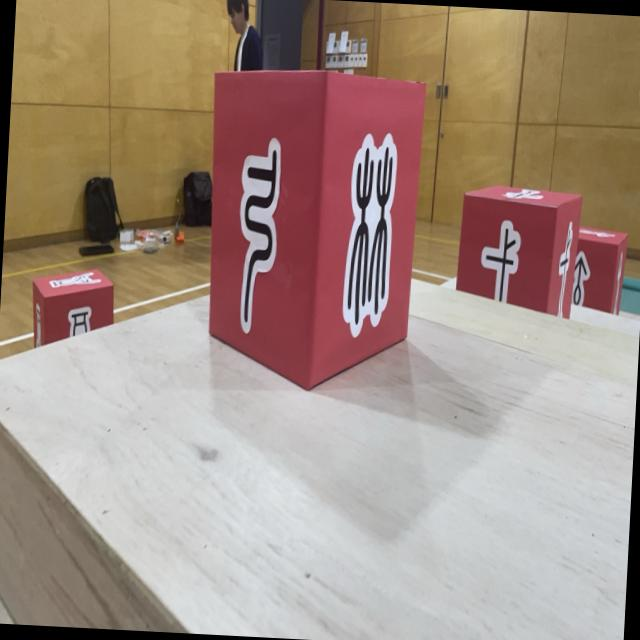12: (570, 250, 592, 306), (614, 251, 624, 316)
2: (338, 126, 402, 342)
4: (230, 132, 284, 338)
8: (47, 268, 103, 292), (66, 304, 92, 338), (33, 304, 45, 349)
9: (478, 216, 524, 304), (555, 222, 575, 321)
fighter: (196, 62, 428, 398), (455, 182, 584, 321), (29, 262, 118, 354), (571, 224, 629, 316)
